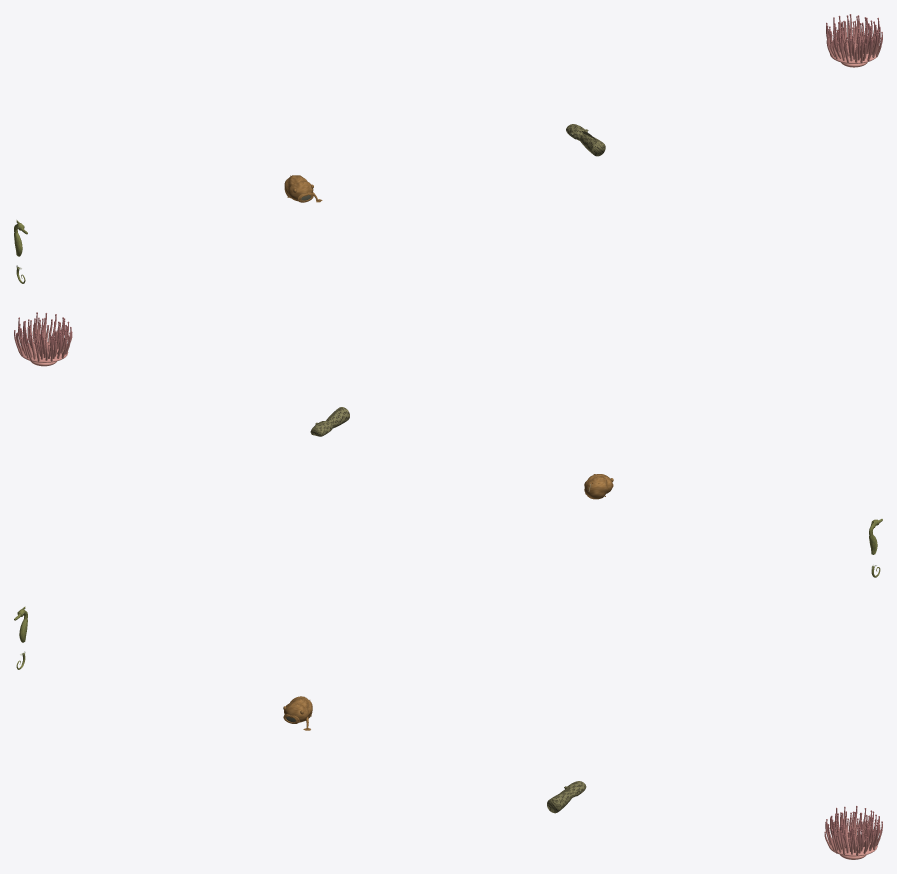
Rendered from anchored-life.pass013.glb.
3 views of the same model, one above another, from view 1: azimuth 30°, elevation 25°; view 2: azimuth 150°, elevation 25°; view 3: azimuth 330°, elevation 25° (orthographic).
Visible parts, largest first — view 1: AnemoneTissue, FrogBody; view 2: AnemoneTissue, FrogBody; view 3: AnemoneTissue, FrogBody.
Boxes of the visible parts, x1,y1,x2,y2 form: AnemoneTissue: (826, 14, 882, 67); FrogBody: (284, 175, 313, 202); AnemoneTissue: (14, 312, 72, 366); FrogBody: (584, 474, 613, 499); AnemoneTissue: (824, 806, 882, 859); FrogBody: (283, 696, 312, 723).
Bounding box in the file's own units: 21.71 × 1.43 × 1.66.
8 materials, 4 textured.
